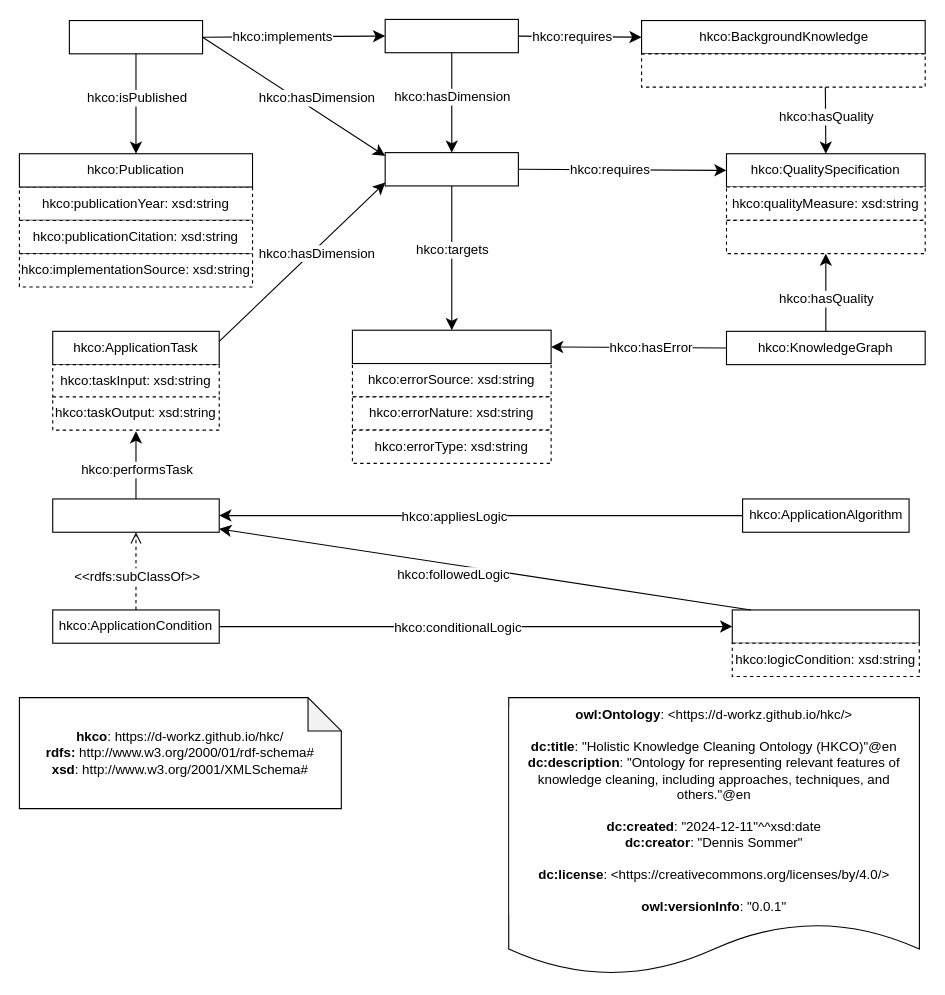
The diagram is 945 pixels wide and 995 high, and some of its shapes have lost their labels. Here are the shapes that lost their labels. From the top down, the centre of each, then its label:
At point (135, 36): "hkco:Approach".
At point (451, 35): "hkco:Technique".
At point (782, 70): "hkco:isKnowledgeGraphFeature: xsd:boolean".
At point (451, 169): "hkco:Dimension".
At point (825, 236): "hkco:measureValue: xsd:string".
At point (451, 346): "hkco:Error".
At point (135, 515): "hkco:ApplicationLogic".
At point (825, 626): "hkco:Condition".
